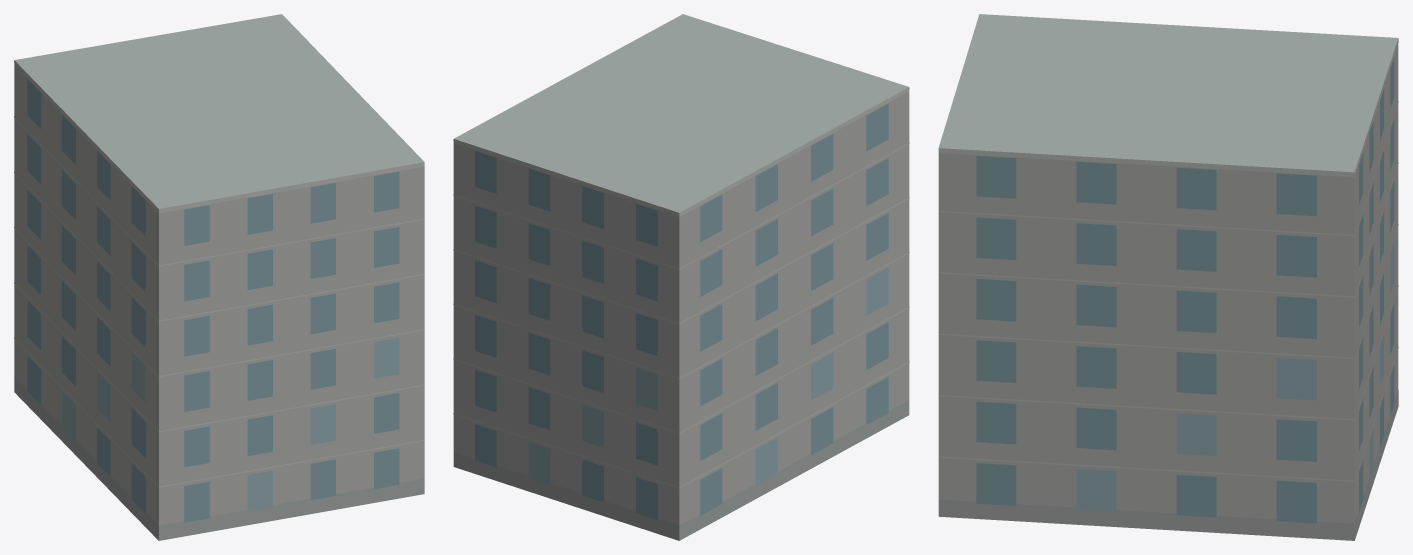
Rendered from residential-b6abb510-a295-474f-94c2-bb00eede961a.glb.
3 views of the same model, side by side, from view 1: azimuth 30°, elevation 25°; view 2: azimuth 150°, elevation 25°; view 3: azimuth 270°, elevation 25° (orthographic). The views are drawn at different scales.
Visible parts, largest first — view 1: residential-b6abb510-a295-474f-94c2-bb00eede961a.tmp; view 2: residential-b6abb510-a295-474f-94c2-bb00eede961a.tmp; view 3: residential-b6abb510-a295-474f-94c2-bb00eede961a.tmp.
Part boxes in pixels (left/top/right/bottom): residential-b6abb510-a295-474f-94c2-bb00eede961a.tmp: left=14, top=14, right=424, bottom=540; residential-b6abb510-a295-474f-94c2-bb00eede961a.tmp: left=453, top=14, right=909, bottom=540; residential-b6abb510-a295-474f-94c2-bb00eede961a.tmp: left=938, top=14, right=1398, bottom=540.
Size of the model in its own units: 16.88 by 18.3 by 20.72.
